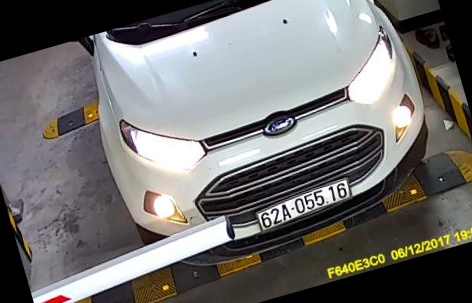plate: (238, 175, 367, 237)
